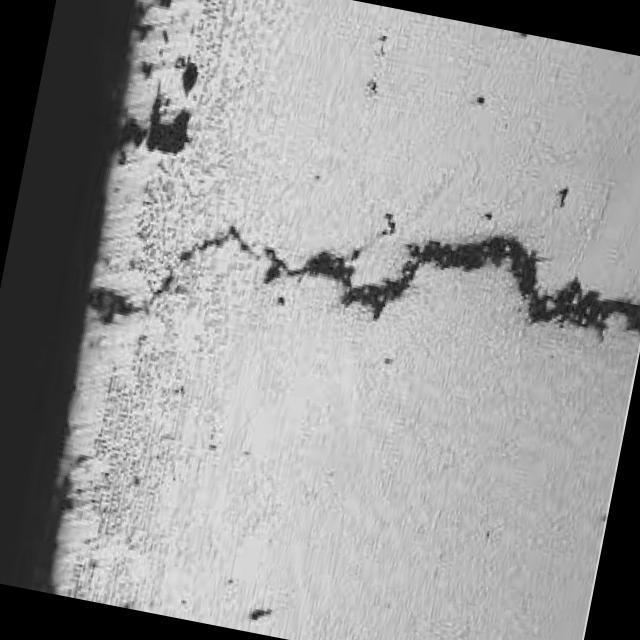defect: (144, 221, 640, 352)
